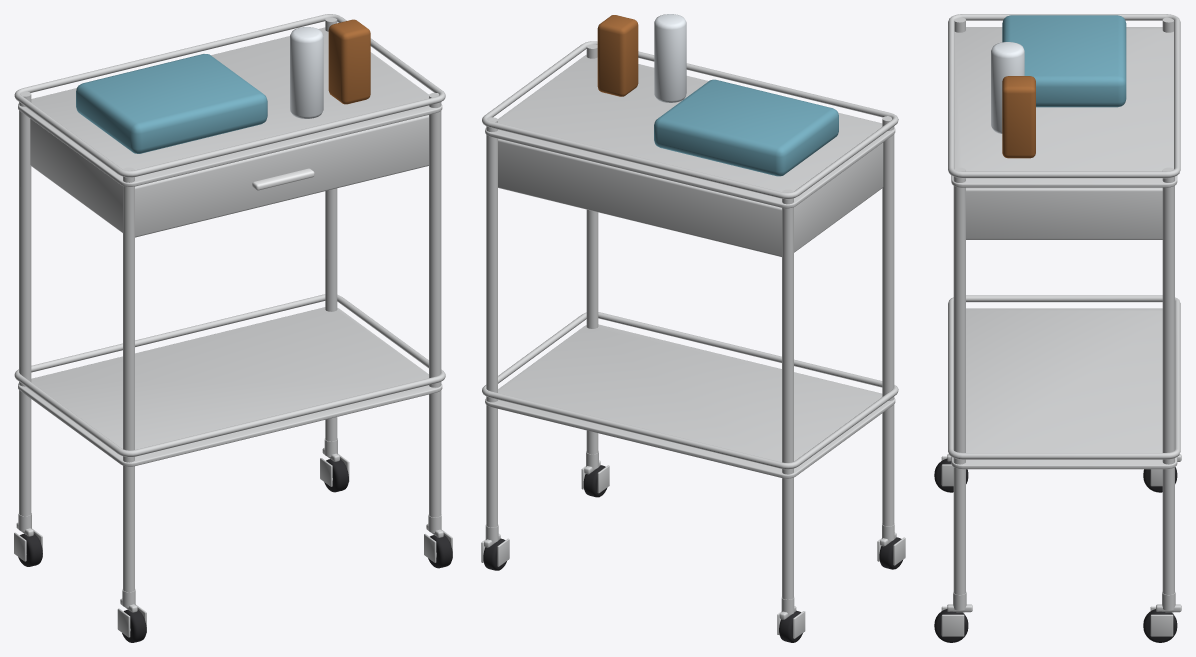
File: chariot_inox.glb
3 renders of one model, left to right at view 1: azimuth 30°, elevation 25°; view 2: azimuth 150°, elevation 25°; view 3: azimuth 270°, elevation 25°, orthographic. The views are drawn at different scales.
Parts seen in each view (by area): view 1: chariot_inox; view 2: chariot_inox; view 3: chariot_inox.
Boxes of the visible parts, left/top/right/bottom form: chariot_inox: left=14, top=14, right=452, bottom=642; chariot_inox: left=481, top=14, right=905, bottom=642; chariot_inox: left=934, top=14, right=1181, bottom=642.
Bounding box in the file's own units: 0.672 × 1.06 × 0.4375.
